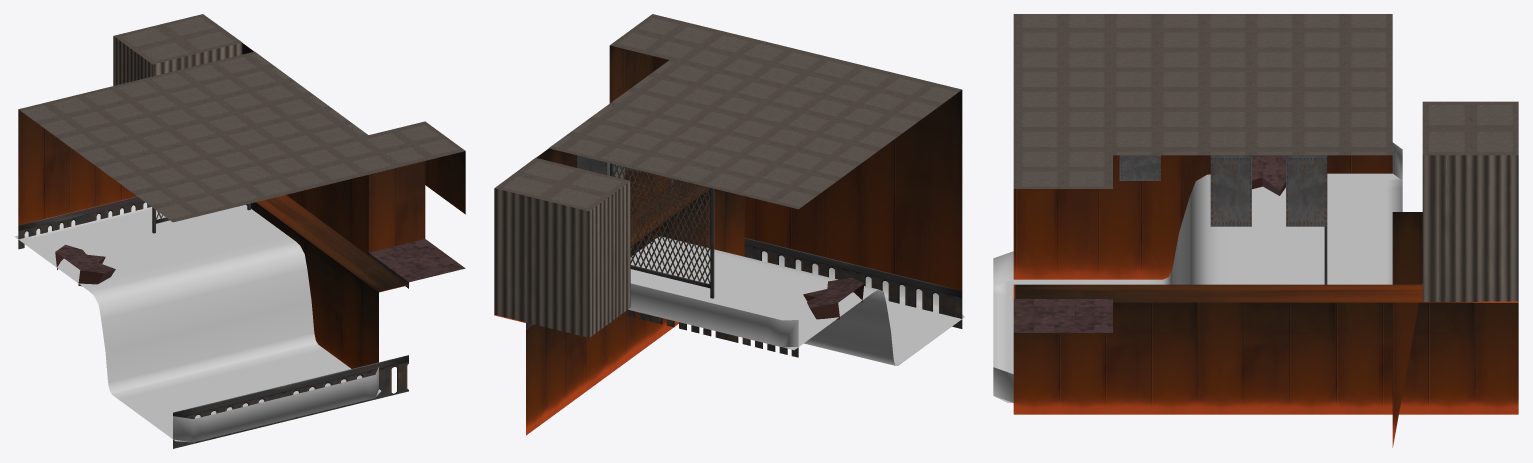
Rendered from molten_sinking_bellows_conveyor.fbx.
3 views of the same model, side by side, from view 1: azimuth 30°, elevation 25°; view 2: azimuth 150°, elevation 25°; view 3: azimuth 270°, elevation 25° (orthographic). The views are drawn at different scales.
Visible parts, largest first — view 1: Walls, Lava, Floor; view 2: Walls, Lava, Barrier, Floor, StomperCasing; view 3: Walls, Lava, StomperCasing, Floor.
Boxes of the visible parts, bbox=[...] form: Walls: bbox=[18, 14, 465, 448]; Lava: bbox=[14, 202, 381, 442]; Floor: bbox=[55, 239, 465, 288]; Walls: bbox=[494, 14, 962, 435]; Lava: bbox=[628, 236, 964, 365]; Barrier: bbox=[610, 163, 714, 298]; Floor: bbox=[526, 178, 864, 337]; StomperCasing: bbox=[577, 155, 640, 178]; Walls: bbox=[1013, 14, 1518, 447]; Lava: bbox=[993, 142, 1402, 402]; StomperCasing: bbox=[1119, 155, 1327, 226]; Floor: bbox=[1013, 155, 1285, 332].
Size of the model in its own units: 4078 by 3384 by 5168.
